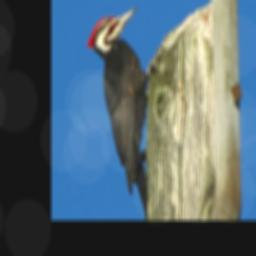Woodpecker: (83, 7, 160, 217)
